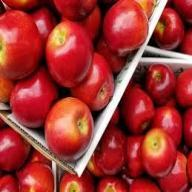apple: (6, 70, 57, 124), (46, 96, 88, 154), (100, 2, 148, 52), (46, 24, 90, 76), (70, 55, 114, 105), (85, 122, 125, 174), (142, 128, 176, 176), (154, 8, 184, 52), (150, 105, 182, 146), (123, 84, 153, 127), (148, 61, 174, 101), (18, 162, 54, 190)
